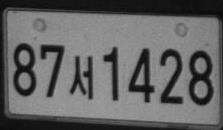1: (99, 46, 125, 100)
2: (159, 48, 183, 103)
4: (128, 47, 155, 102)
7: (40, 44, 64, 97)
8: (187, 49, 214, 106), (12, 42, 37, 96)
서: (69, 55, 93, 100)
